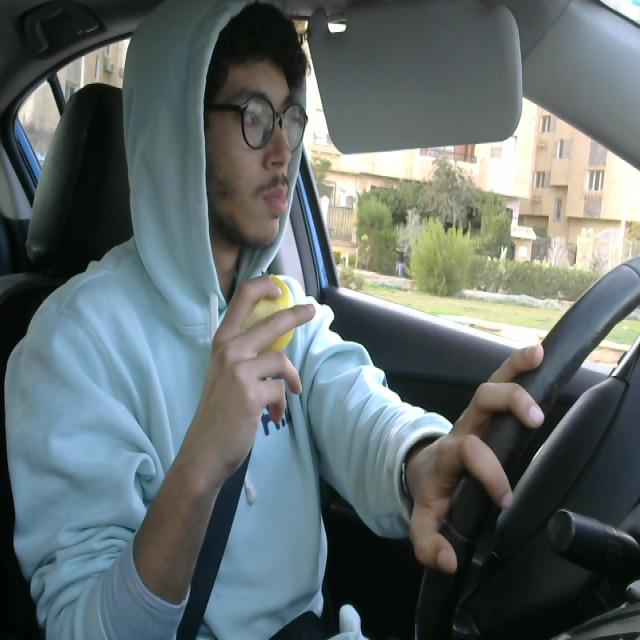eating: (237, 271, 299, 361)
